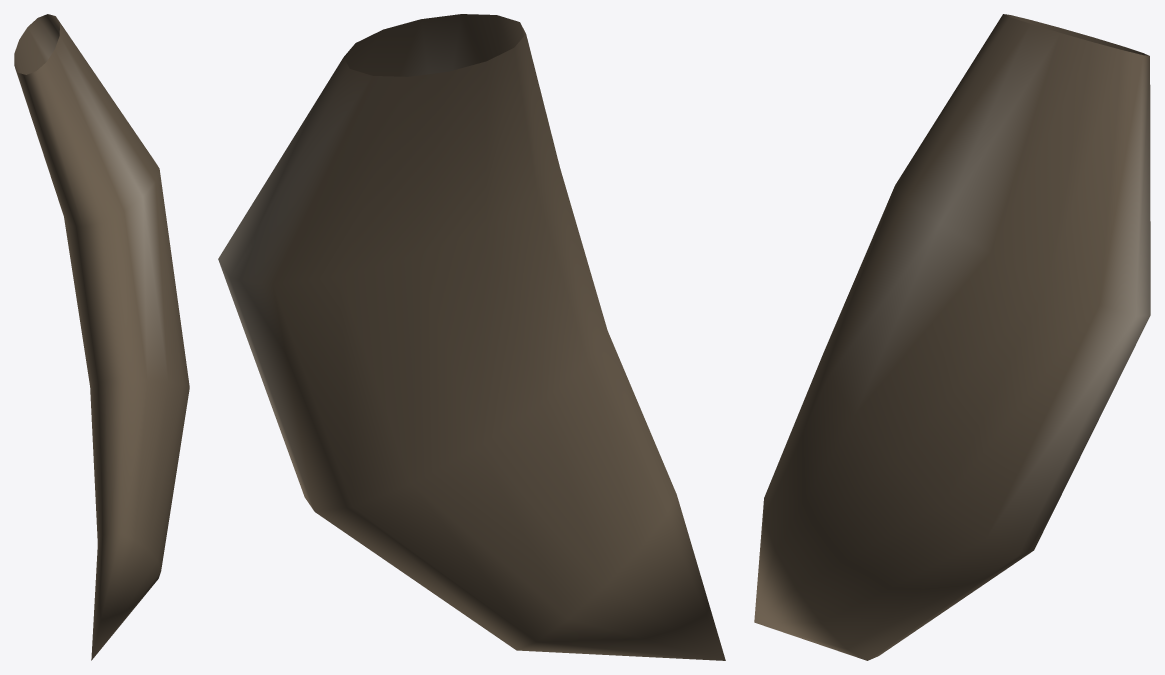
File: Fukurou_WingFolded.fbx
3 renders of one model, left to right at view 1: azimuth 30°, elevation 25°; view 2: azimuth 150°, elevation 25°; view 3: azimuth 270°, elevation 25°, orthographic. The views are drawn at different scales.
Parts seen in each view (by area): view 1: Fukurou_WingFolded; view 2: Fukurou_WingFolded; view 3: Fukurou_WingFolded.
Part boxes in pixels (x1,y1,x2,y2): Fukurou_WingFolded: (14,14,189,660); Fukurou_WingFolded: (218,14,725,660); Fukurou_WingFolded: (754,14,1150,660).
Bounding box in the file's own units: 4.34 × 10.6 × 5.9.
